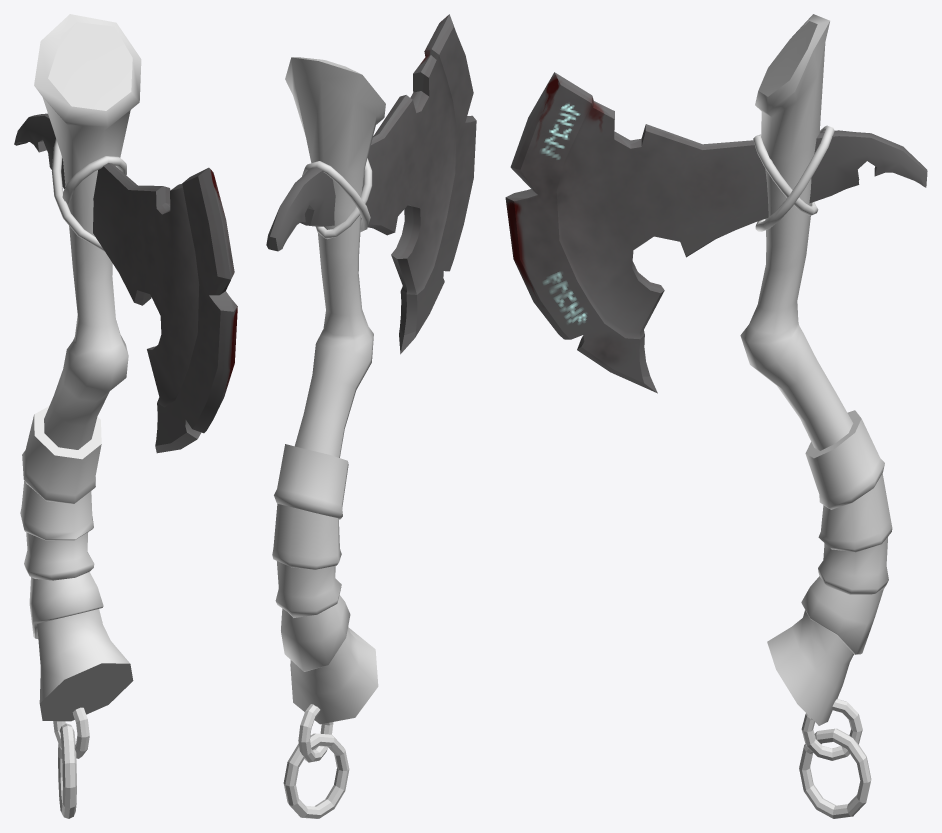
File: Axe.fbx
The picture shows the model from 3 angles, left to right: view 1: azimuth 30°, elevation 25°; view 2: azimuth 150°, elevation 25°; view 3: azimuth 270°, elevation 25°; orthographic projection. The views are drawn at different scales.
Visible parts, largest first — view 1: Axe_Handle, Axe_Blade, Axe_Ropes, AxeRing02, Axe_Ring01; view 2: Axe_Handle, Axe_Blade, AxeRing02, Axe_Ropes, Axe_Ring01; view 3: Axe_Blade, Axe_Handle, AxeRing02, Axe_Ropes, Axe_Ring01.
Boxes of the visible parts, x1,y1,x2,y2 form: Axe_Handle: (20, 14, 141, 721); Axe_Blade: (14, 113, 237, 453); Axe_Ropes: (51, 139, 126, 251); AxeRing02: (58, 723, 76, 818); Axe_Ring01: (53, 707, 89, 758); Axe_Handle: (272, 57, 385, 724); Axe_Blade: (266, 14, 476, 354); AxeRing02: (283, 733, 349, 818); Axe_Ropes: (302, 158, 372, 238); Axe_Ring01: (298, 704, 333, 762); Axe_Blade: (505, 72, 927, 393); Axe_Handle: (740, 14, 892, 725); AxeRing02: (799, 728, 871, 818); Axe_Ropes: (753, 125, 834, 231); Axe_Ring01: (801, 699, 862, 760).
Bounding box in the file's own units: 31.5 × 225 × 108.
